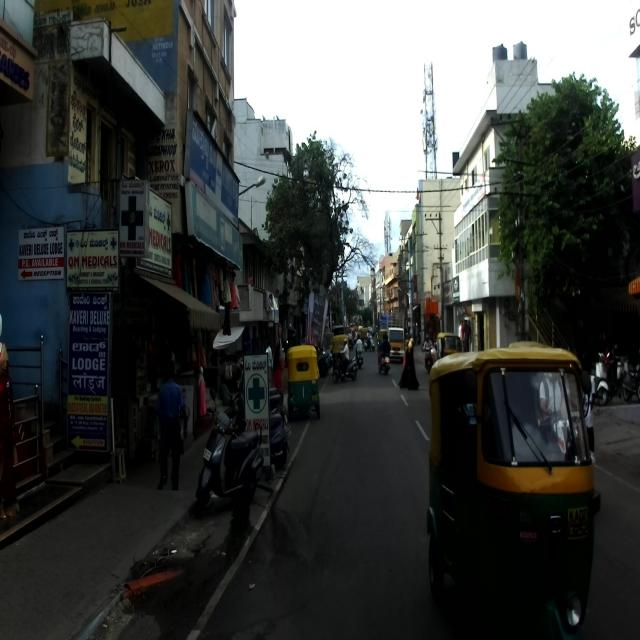autorickshaw: (426, 347, 600, 639)
scooter: (195, 386, 264, 508), (228, 401, 290, 471)
